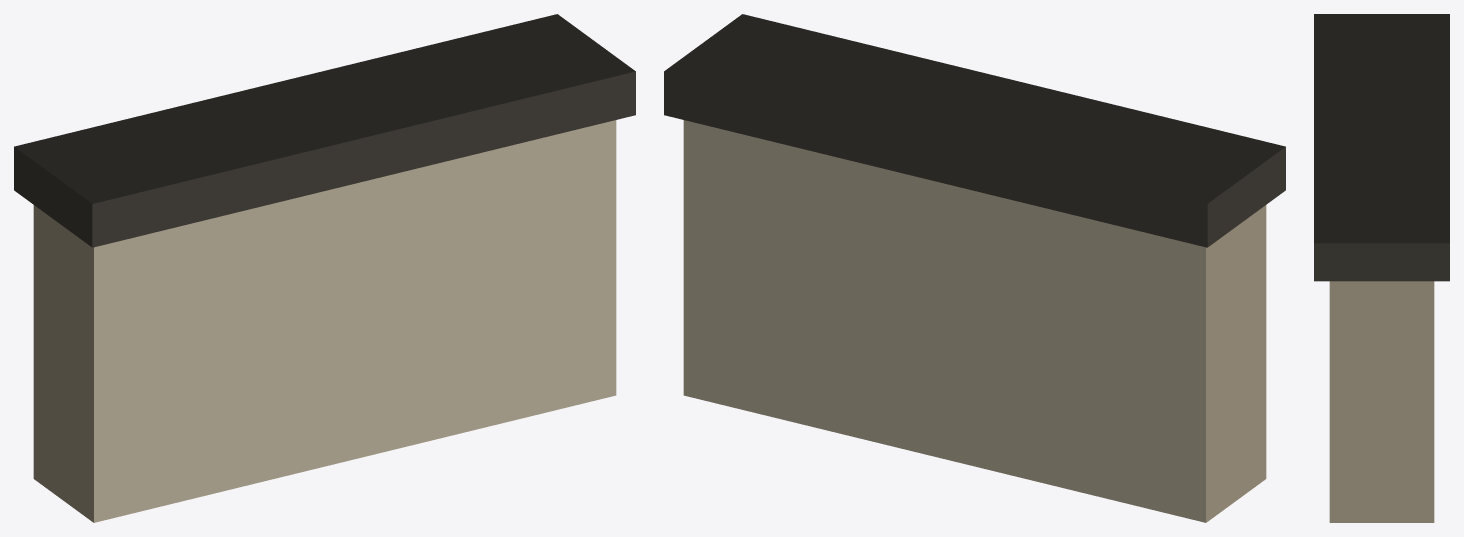
The model's file is bld_wall.glb.
The picture shows the model from 3 angles, left to right: view 1: azimuth 30°, elevation 25°; view 2: azimuth 150°, elevation 25°; view 3: azimuth 270°, elevation 25°; orthographic projection. The views are drawn at different scales.
Visible parts, largest first — view 1: bld_wall; view 2: bld_wall; view 3: bld_wall.
Part boxes in pixels (left/top/right/bottom): bld_wall: left=14, top=14, right=635, bottom=522; bld_wall: left=664, top=14, right=1285, bottom=522; bld_wall: left=1314, top=14, right=1449, bottom=522.
Bounding box in the file's own units: 1.04 × 0.6 × 0.26.
Materials: 1 (1 with a texture image).
